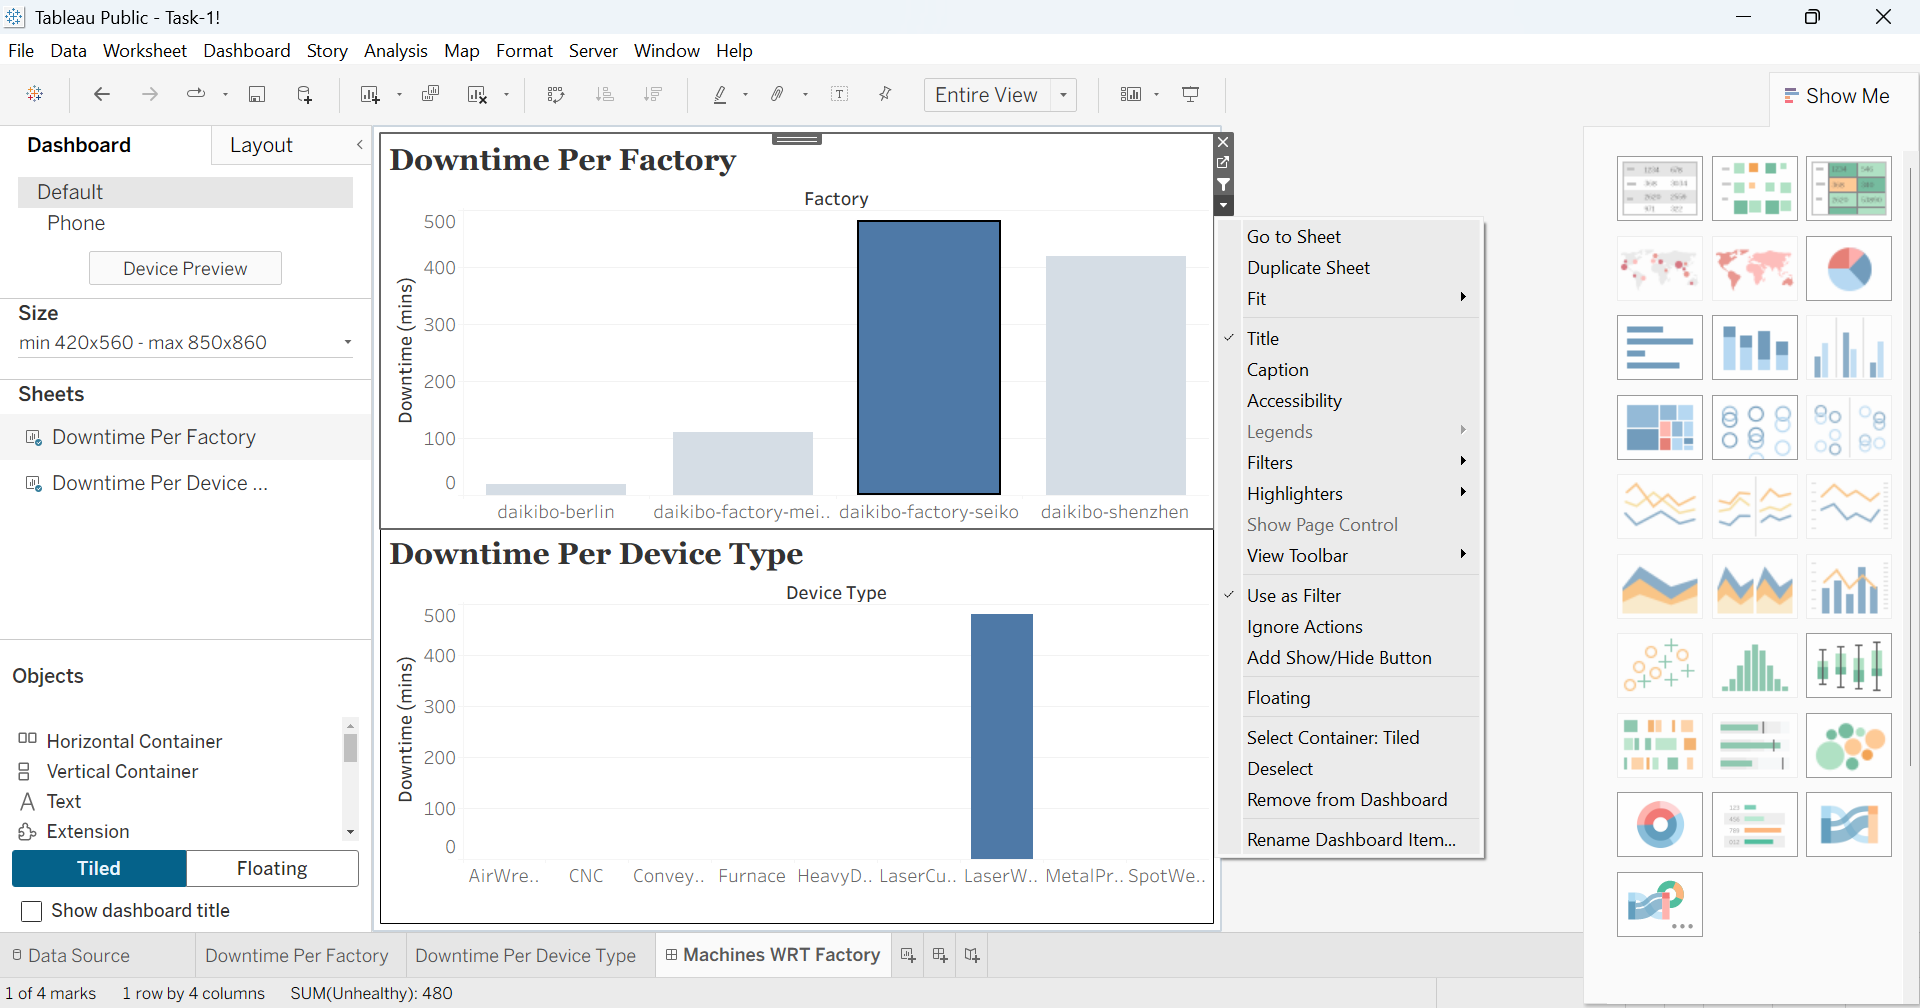

The dashboard page shown, as its layout file describes it:
{"tool":"tableau","page":{"name":"Machines WRT Factory","canvas":[1000,1000],"units":"permille","ordinal":0},"visuals":[{"type":"worksheet","title":"Downtime Per Factory","mark":"Automatic","rows":["Calculation_0497308065644544"],"cols":["factory"],"box":[10.6,11.2,978.8,488.8]},{"type":"worksheet","title":"Downtime Per Device Type","mark":"Automatic","rows":["Calculation_0497308065644544"],"cols":["deviceType"],"box":[10.6,500,978.8,488.9]}]}

Visuals, with their boxes on the dashboard's canvas, which has no fixed pixel size, in thousandths of its width and height (x1, y1, x2, y2). These are canvas units, not pixel positions in the 1920x1008 screenshot, which may show the page scaled, cropped or inside an application window:
"Downtime Per Factory" worksheet: <bbox>11, 11, 989, 500</bbox>
"Downtime Per Device Type" worksheet: <bbox>11, 500, 989, 989</bbox>
